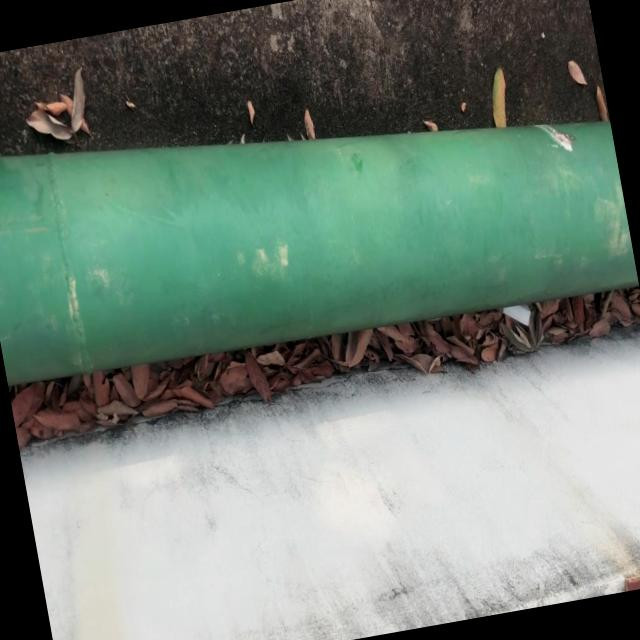gas: (0, 42, 639, 400)
